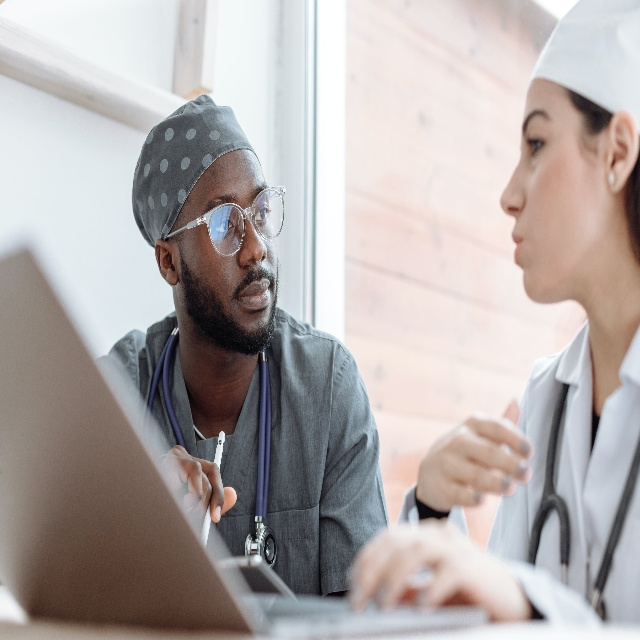Gafas: (164, 195, 286, 261)
Sin_guantes: (350, 511, 532, 624), (414, 399, 537, 507), (170, 439, 239, 529)
